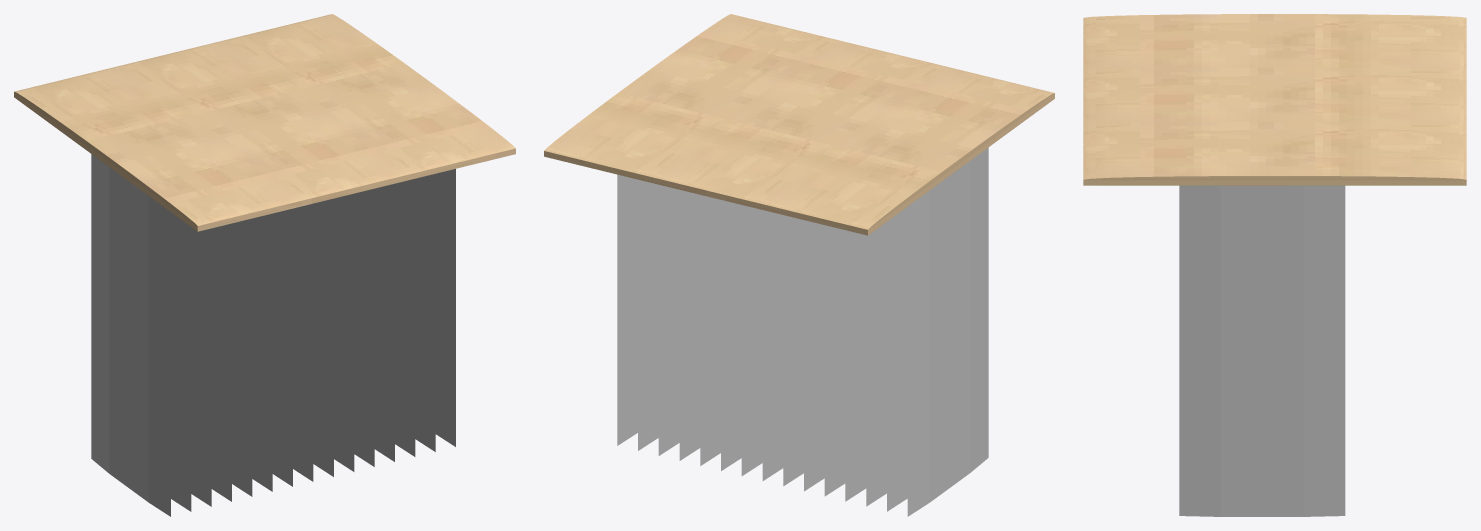
Rendered from sh-contrib-staircase-handrail-hor.glb.
3 renders of one model, left to right at view 1: azimuth 30°, elevation 25°; view 2: azimuth 150°, elevation 25°; view 3: azimuth 270°, elevation 25°, orthographic. The views are drawn at different scales.
Parts seen in each view (by area): view 1: 14_14, 1_1; view 2: 14_14, 1_1; view 3: 1_1, 14_14.
Boxes of the visible parts, x1,y1,x2,y2 form: 14_14: (91,154,455,516); 1_1: (14,14,515,231); 14_14: (617,147,988,516); 1_1: (544,14,1054,235); 1_1: (1083,14,1466,185); 14_14: (1179,185,1345,516).
Size of the model in its own units: 1 by 1 by 1.
Materials: 2 (1 with a texture image).
